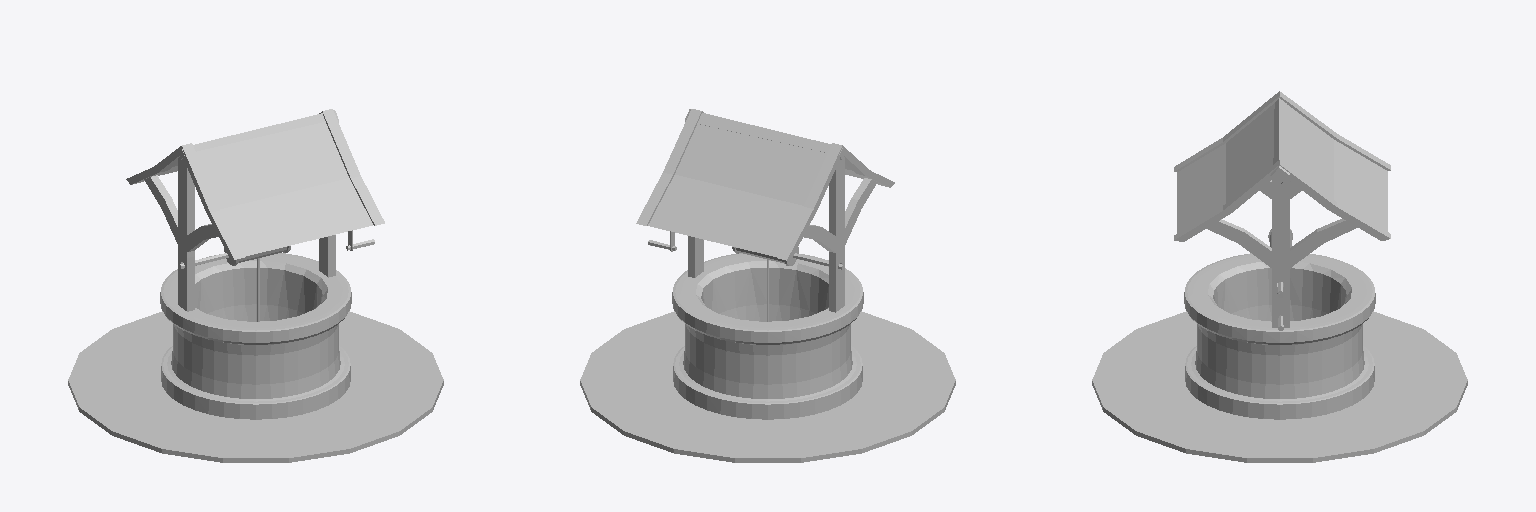
Rendered from well2.obj.
3 renders of one model, left to right at view 1: azimuth 30°, elevation 25°; view 2: azimuth 150°, elevation 25°; view 3: azimuth 270°, elevation 25°, orthographic.
Visible parts, largest first — view 1: well_base_Cylinder.001; view 2: well_base_Cylinder.001; view 3: well_base_Cylinder.001.
Part boxes in pixels (left/top/right/bottom): well_base_Cylinder.001: left=68, top=109, right=443, bottom=462; well_base_Cylinder.001: left=580, top=109, right=955, bottom=462; well_base_Cylinder.001: left=1092, top=91, right=1467, bottom=462.
Size of the model in its own units: 23.1 by 17.74 by 23.46.